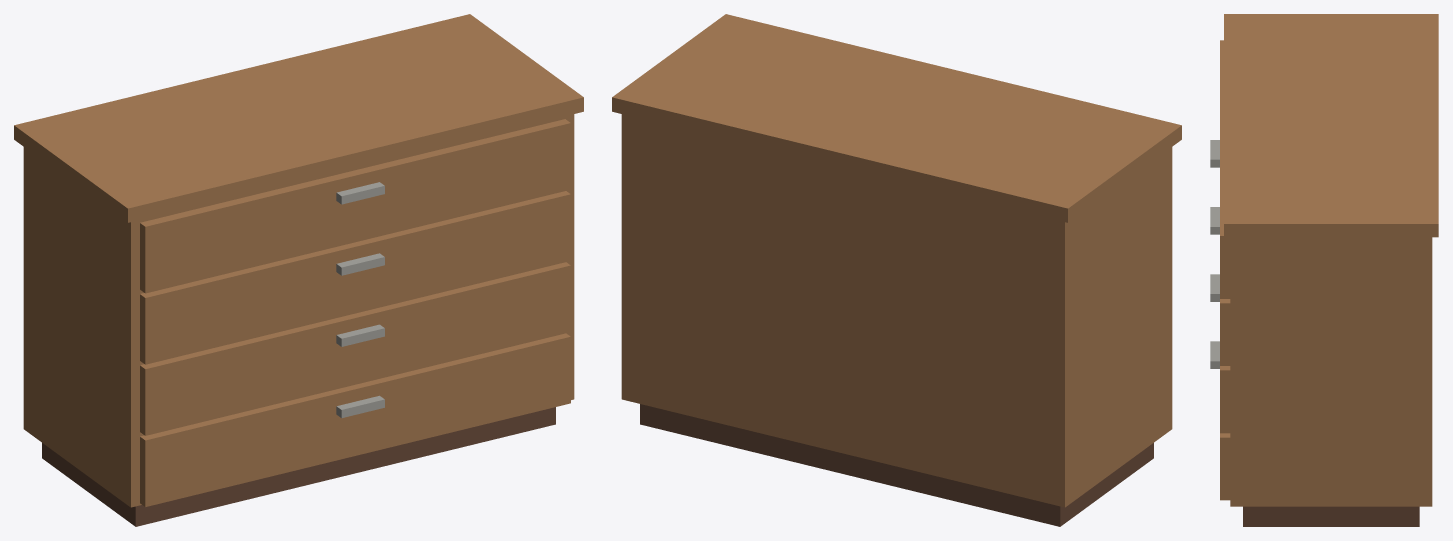
The model's file is dresser.glb.
3 views of the same model, side by side, from view 1: azimuth 30°, elevation 25°; view 2: azimuth 150°, elevation 25°; view 3: azimuth 270°, elevation 25° (orthographic). The views are drawn at different scales.
Parts seen in each view (by area): view 1: Top.001, Cabinet.001, Drawer.005, Drawer.003, Drawer.004, Drawer.002, Base.001, Pull.005, Pull.002, Pull.003, Pull.004; view 2: Cabinet.001, Top.001, Base.001; view 3: Cabinet.001, Top.001, Base.001, Drawer.005, Drawer.002, Drawer.003, Drawer.004, Pull.002, Pull.003, Pull.004, Pull.005.
Boxes of the visible parts, <box> form: Top.001: <box>14,14,583,222</box>; Cabinet.001: <box>23,114,574,507</box>; Drawer.005: <box>140,119,570,293</box>; Drawer.003: <box>140,262,570,435</box>; Drawer.004: <box>140,191,570,364</box>; Drawer.002: <box>140,333,570,506</box>; Base.001: <box>42,407,555,526</box>; Pull.005: <box>336,182,384,204</box>; Pull.002: <box>336,395,384,418</box>; Pull.003: <box>336,324,384,346</box>; Pull.004: <box>336,253,384,275</box>; Cabinet.001: <box>621,114,1172,507</box>; Top.001: <box>612,14,1181,222</box>; Base.001: <box>640,404,1153,526</box>; Cabinet.001: <box>1230,237,1432,506</box>; Top.001: <box>1224,14,1438,237</box>; Base.001: <box>1243,506,1419,526</box>; Drawer.005: <box>1220,40,1230,298</box>; Drawer.002: <box>1220,433,1230,500</box>; Drawer.003: <box>1220,366,1230,433</box>; Drawer.004: <box>1220,299,1230,365</box>; Pull.002: <box>1210,341,1219,368</box>; Pull.003: <box>1210,274,1219,301</box>; Pull.004: <box>1210,207,1219,234</box>; Pull.005: <box>1210,140,1219,167</box>.
Bounding box in the file's own units: 1.27 × 0.875 × 0.582.
